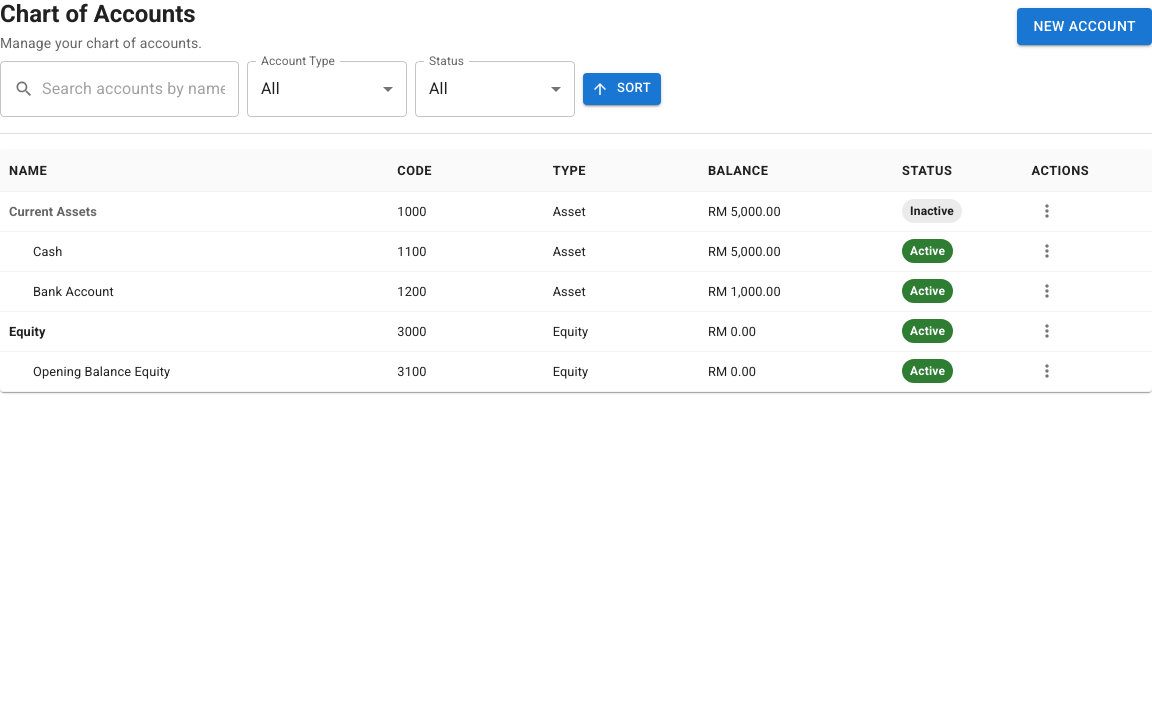
Test: ChartOfAccountsPage › still shows the parent when editing a child of a deactivated group
Click the button named "row actions" in the row of "Cash" at (1046, 251), box left=1032, top=236, right=1062, bottom=266
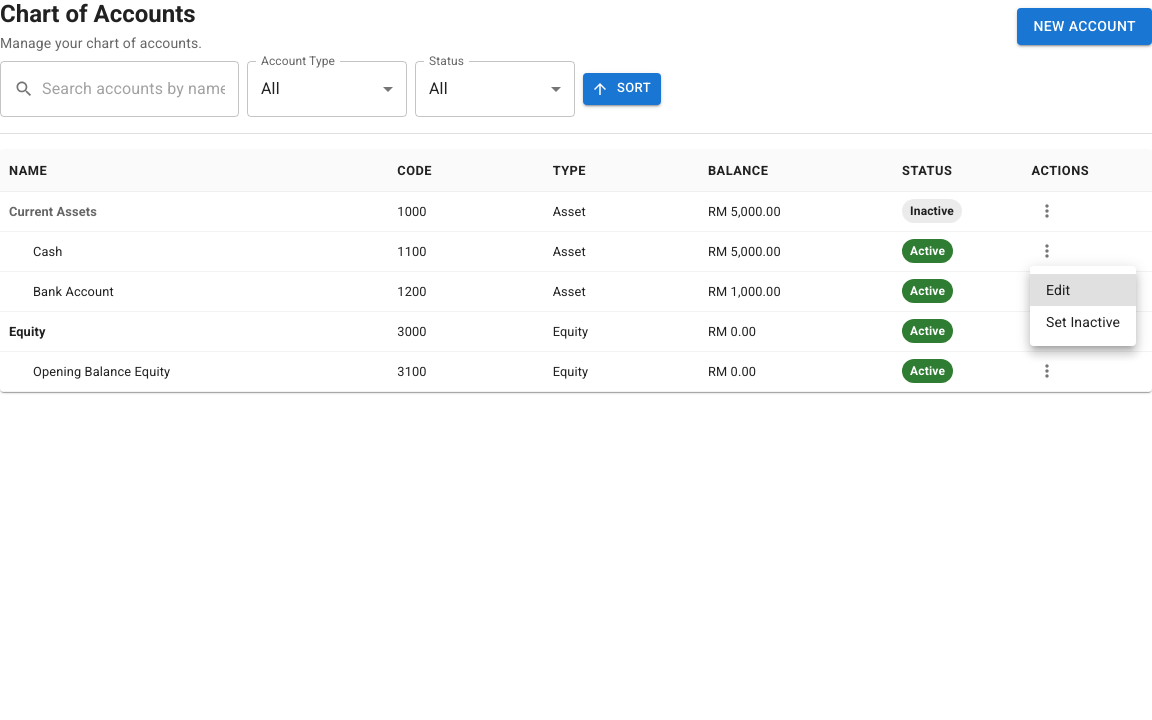
Click the menu item "Edit" at (1083, 290), box left=1030, top=274, right=1136, bottom=306
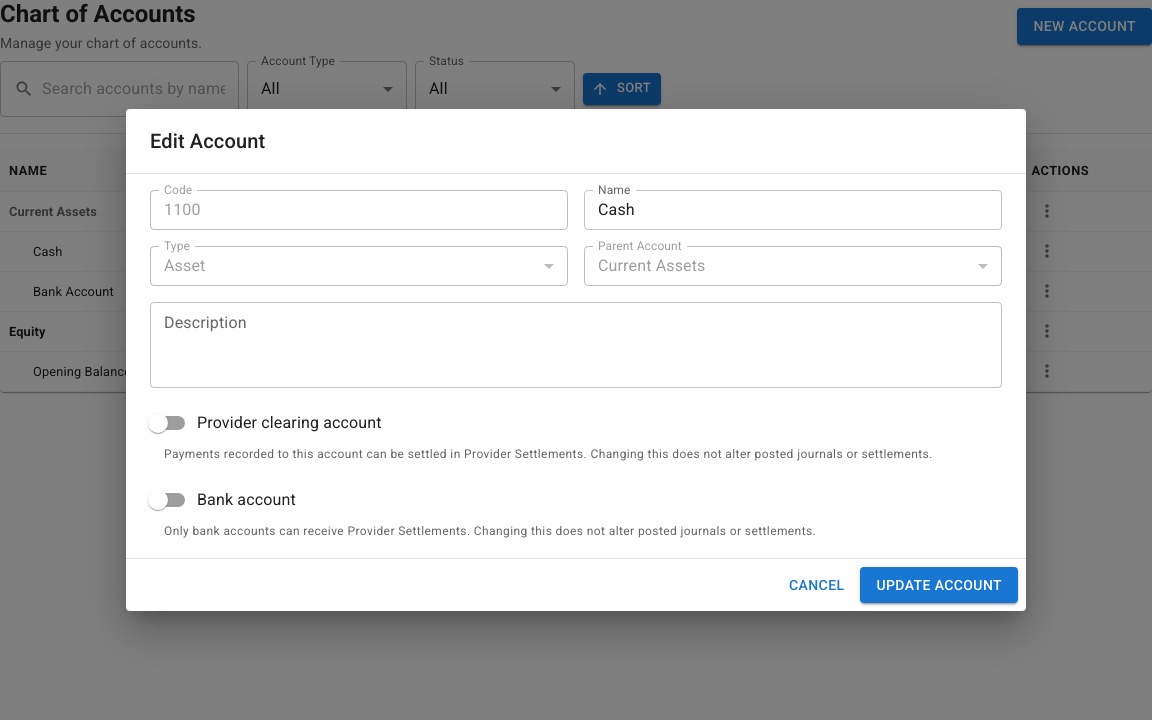
Result: the dialog is shown at left=126, top=109, right=1026, bottom=611
Result: the dropdown "Current Assets" is shown at left=598, top=256, right=706, bottom=275
